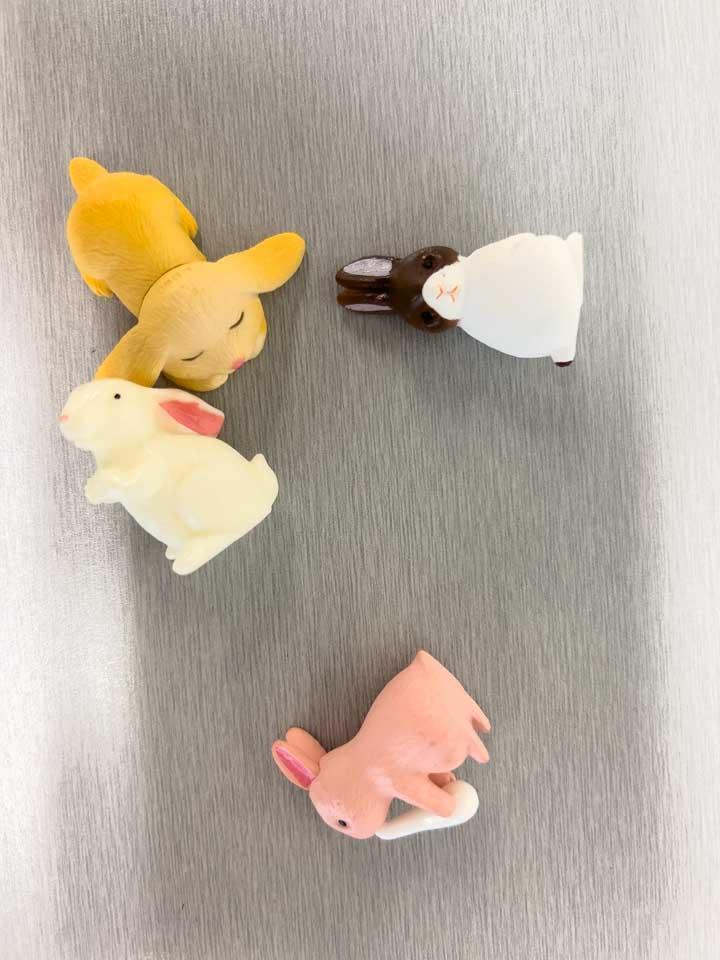pet: (63, 154, 311, 400), (270, 646, 496, 840), (59, 376, 279, 574), (336, 228, 588, 368)
